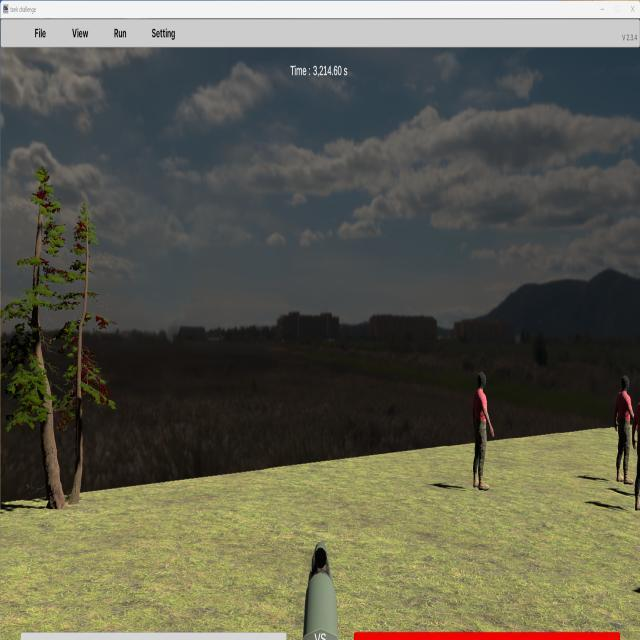Human: (472, 371, 494, 490), (615, 375, 636, 482), (615, 375, 636, 481), (631, 380, 640, 488)
